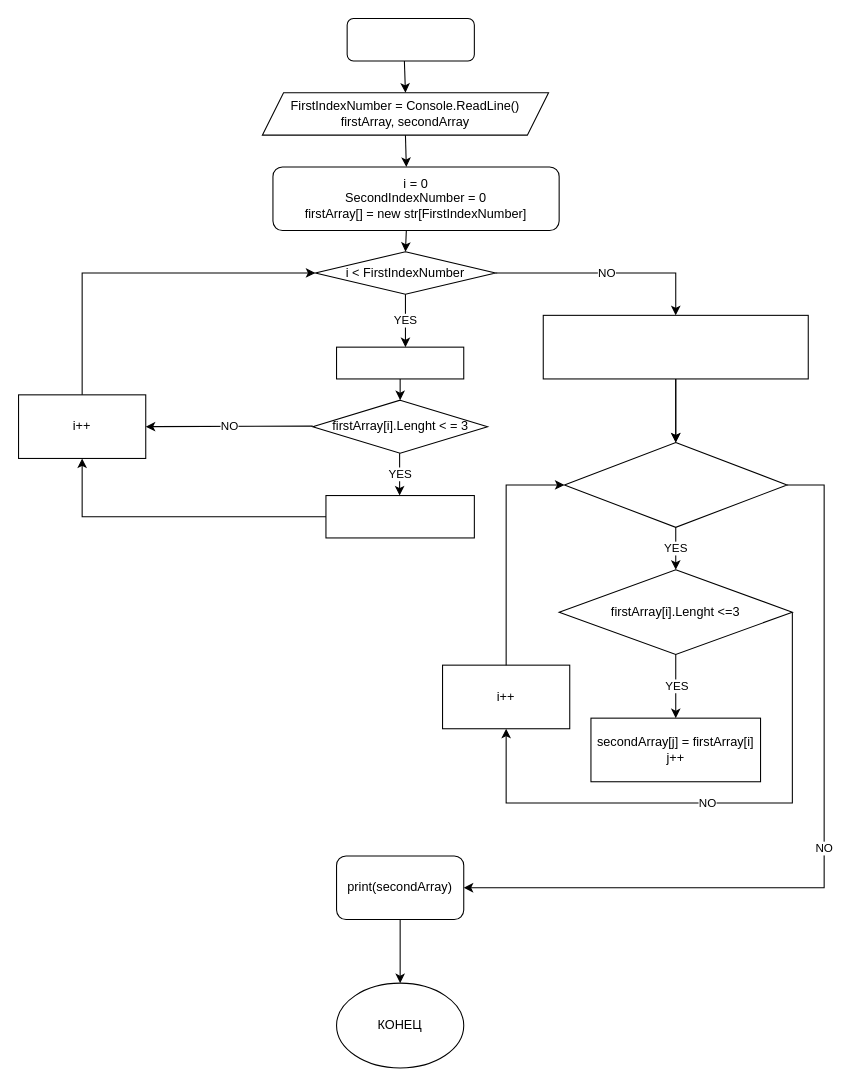
The diagram is 851 pixels wide and 1087 high, and some of its shapes have lost their labels. The box of each missing label's shape, as (x1, y1, x2, y2) in pixels:
firstArray[i] = Console.ReadLine(): (335, 346, 464, 379)
i = 0 j = 0 secondArray[] = new str[SecondIndexNumber]: (542, 314, 808, 379)
i<FirstIndexNumber: (563, 441, 787, 527)
SecondIndexNumber = SecondIndexNumber + 1: (325, 494, 474, 538)
НАЧАЛО: (346, 17, 474, 61)
